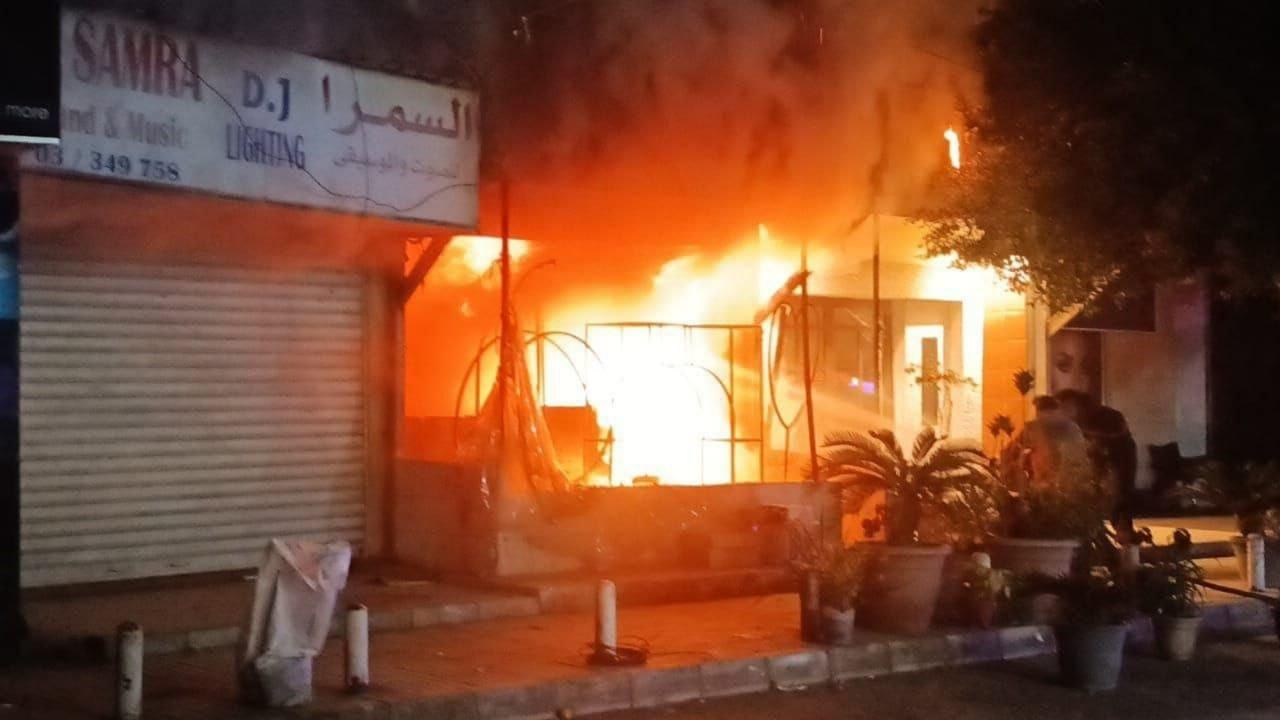Fire: (429, 225, 1019, 479), (905, 107, 996, 192)
